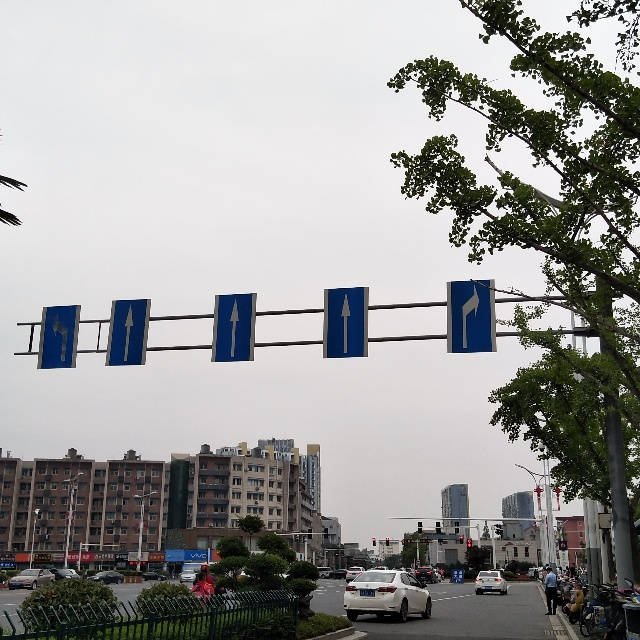left: (40, 307, 78, 368)
right: (451, 278, 488, 354)
straight: (329, 289, 369, 358), (219, 292, 252, 363), (109, 300, 144, 364)
